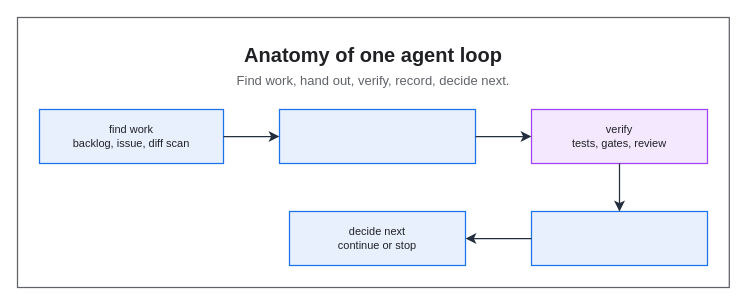
This 748x306 diagram has some shape labels left out. Each missing label, with the centre of its shape:
"hand out prompt the agent with scope" goes at (377,136).
"record notes, logs, state" goes at (619,238).
